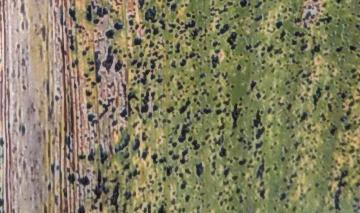tarspot: (92, 168, 110, 204), (108, 183, 122, 213), (101, 45, 114, 77), (112, 133, 130, 156), (91, 48, 102, 84), (230, 101, 243, 130), (176, 120, 190, 144), (143, 5, 159, 25), (138, 86, 149, 115), (225, 30, 239, 52), (310, 84, 322, 109), (96, 145, 109, 166), (208, 51, 221, 72), (65, 6, 81, 22), (181, 17, 199, 31), (193, 158, 206, 177), (251, 107, 262, 128), (82, 2, 93, 23), (216, 145, 231, 160), (93, 4, 111, 16), (254, 126, 268, 141), (179, 145, 189, 166), (113, 56, 124, 75), (103, 27, 116, 43), (178, 98, 190, 115), (139, 68, 150, 86), (85, 112, 99, 126), (215, 22, 229, 36), (125, 90, 139, 104), (326, 122, 338, 138), (117, 106, 129, 122), (171, 40, 183, 56), (77, 175, 91, 188), (264, 41, 276, 56), (273, 16, 284, 32), (65, 172, 78, 185), (154, 200, 167, 213), (130, 36, 145, 47), (139, 146, 150, 161), (190, 137, 201, 152), (86, 147, 96, 163), (247, 76, 257, 92), (201, 106, 214, 118), (283, 100, 295, 113), (277, 189, 288, 203), (257, 187, 268, 201), (167, 1, 178, 15), (251, 12, 264, 23), (163, 163, 173, 177), (132, 135, 140, 152), (222, 165, 231, 180), (83, 87, 94, 99), (83, 100, 95, 111), (181, 193, 193, 204), (348, 42, 358, 55), (342, 120, 352, 133), (178, 55, 187, 69), (158, 18, 167, 32), (178, 179, 189, 190), (311, 43, 321, 55), (238, 155, 247, 168), (150, 151, 158, 165), (150, 103, 160, 114), (334, 43, 344, 54), (233, 61, 243, 72), (254, 1, 265, 11), (113, 21, 125, 30), (238, 1, 250, 10), (146, 38, 156, 48), (288, 37, 298, 47), (164, 104, 175, 113), (122, 161, 131, 172), (214, 107, 222, 119), (136, 51, 147, 59), (126, 17, 135, 26), (322, 83, 331, 92), (92, 16, 100, 26), (154, 76, 164, 84)
